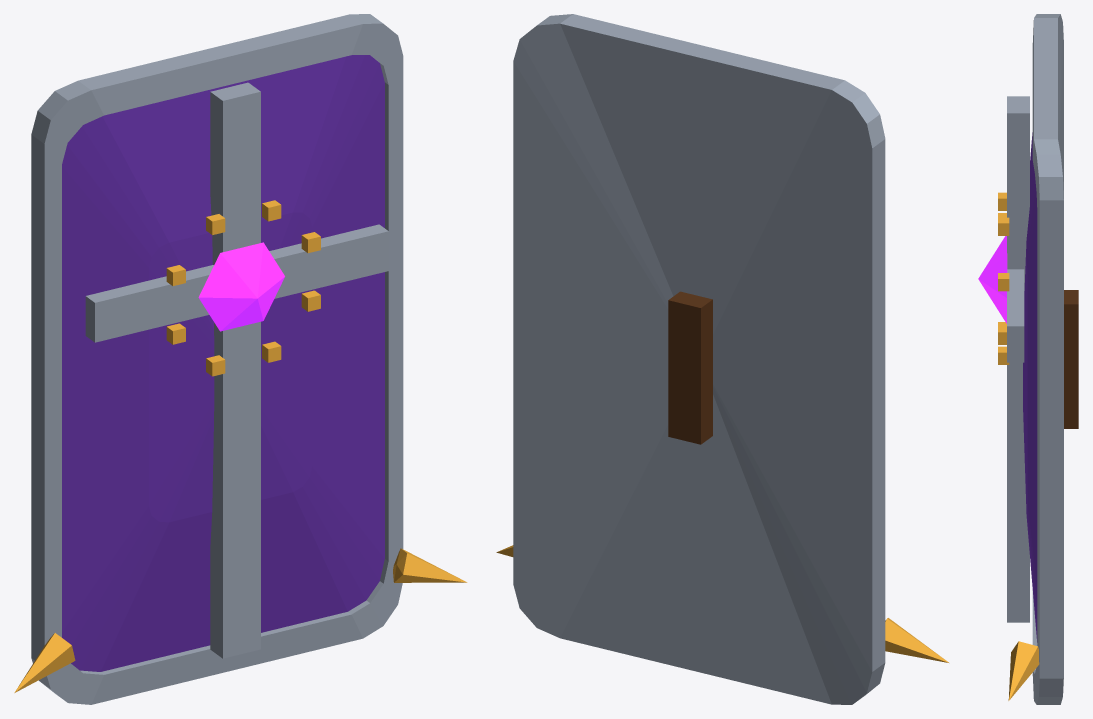
File: shield_tower_epic.glb
The picture shows the model from 3 angles, left to right: view 1: azimuth 30°, elevation 25°; view 2: azimuth 150°, elevation 25°; view 3: azimuth 270°, elevation 25°; orthographic projection. The views are drawn at different scales.
Visible parts, largest first — view 1: shield_tower_epic_export; view 2: shield_tower_epic_export; view 3: shield_tower_epic_export.
Part boxes in pixels (bbox=[...]): shield_tower_epic_export: bbox=[14, 14, 467, 704]; shield_tower_epic_export: bbox=[496, 14, 948, 704]; shield_tower_epic_export: bbox=[978, 14, 1078, 704].
Bounding box in the file's own units: 83.47 × 108 × 17.54.
